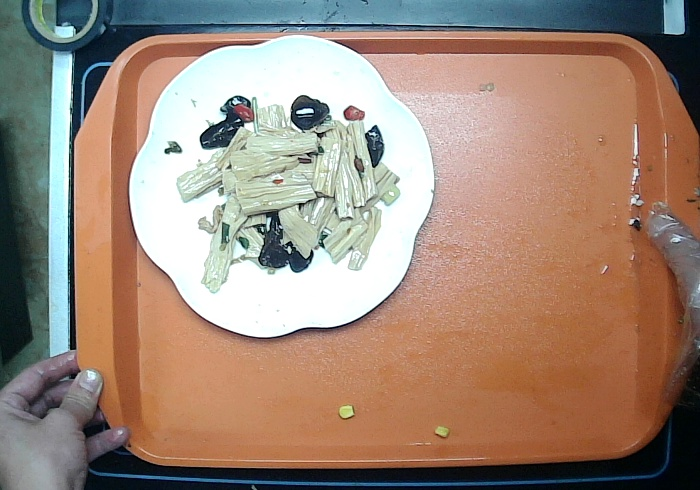HZYJPL-Bai_Se_Hua_Duo_Wan: (123, 27, 441, 341)
